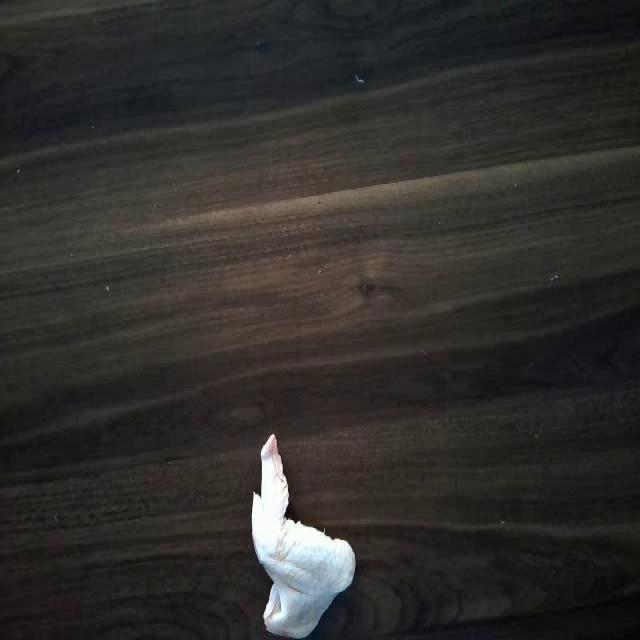wing: (246, 438, 361, 638)
